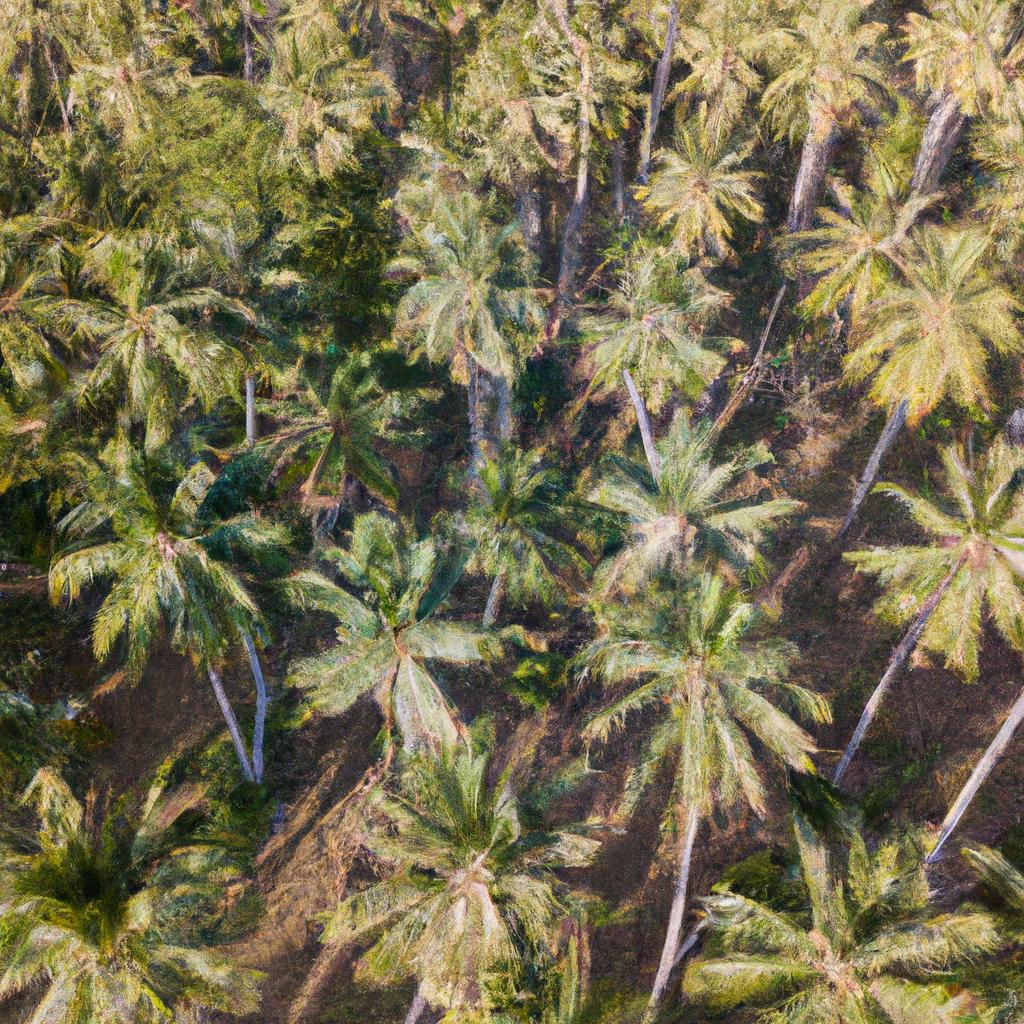coconut_tree: (330, 737, 608, 1020), (0, 748, 292, 1010), (576, 594, 838, 847), (246, 534, 525, 734), (49, 445, 284, 674), (824, 412, 1023, 672), (565, 407, 800, 599), (374, 170, 551, 397), (565, 220, 736, 437), (841, 213, 1023, 410), (60, 237, 246, 428), (605, 125, 804, 242)
